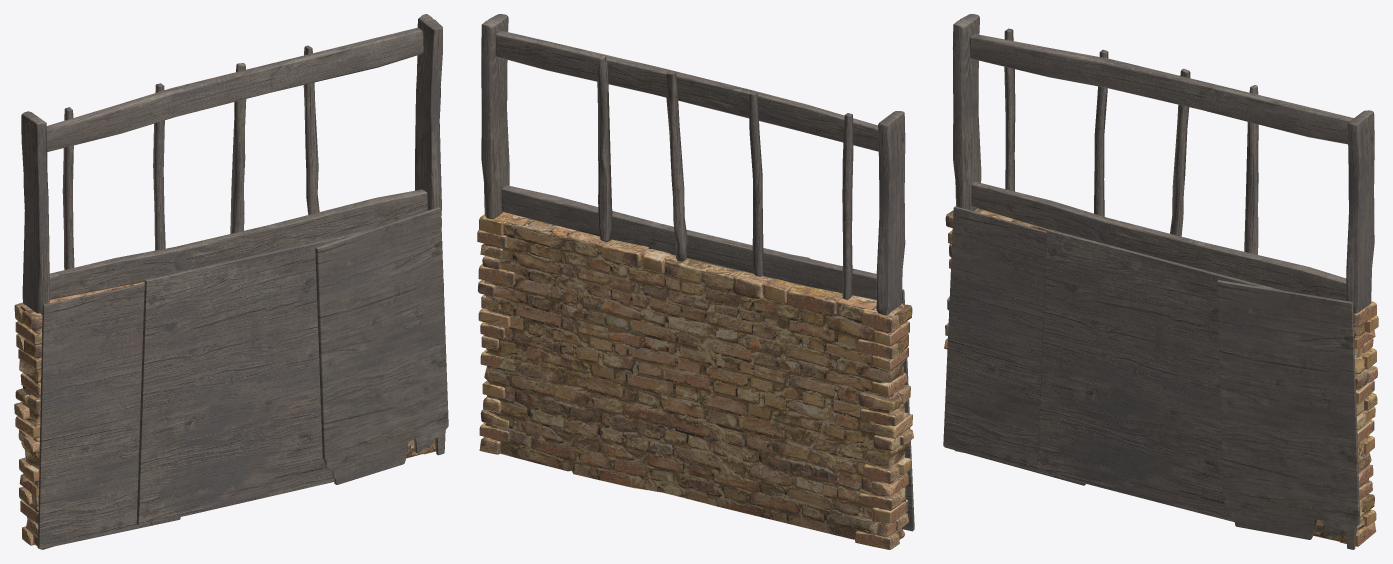
Rendered from FanceWall1.fbx.
3 renders of one model, left to right at view 1: azimuth 30°, elevation 25°; view 2: azimuth 150°, elevation 25°; view 3: azimuth 330°, elevation 25°, orthographic.
Visible parts, largest first — view 1: Group_0_Sub_1__sm20_006_FenceWallLarge_A_ALB_Mat__Env_Layer, Group_0_Sub_0__sm20_006_FenceWallLarge_B_ALB_Mat__Env_Layer; view 2: Group_0_Sub_0__sm20_006_FenceWallLarge_B_ALB_Mat__Env_Layer, Group_0_Sub_1__sm20_006_FenceWallLarge_A_ALB_Mat__Env_Layer; view 3: Group_0_Sub_1__sm20_006_FenceWallLarge_A_ALB_Mat__Env_Layer, Group_0_Sub_0__sm20_006_FenceWallLarge_B_ALB_Mat__Env_Layer.
Boxes of the visible parts, left/top/right/bottom form: Group_0_Sub_1__sm20_006_FenceWallLarge_A_ALB_Mat__Env_Layer: left=21, top=14, right=448, bottom=549; Group_0_Sub_0__sm20_006_FenceWallLarge_B_ALB_Mat__Env_Layer: left=14, top=217, right=443, bottom=549; Group_0_Sub_0__sm20_006_FenceWallLarge_B_ALB_Mat__Env_Layer: left=477, top=212, right=913, bottom=549; Group_0_Sub_1__sm20_006_FenceWallLarge_A_ALB_Mat__Env_Layer: left=481, top=14, right=914, bottom=531; Group_0_Sub_1__sm20_006_FenceWallLarge_A_ALB_Mat__Env_Layer: left=943, top=14, right=1374, bottom=549; Group_0_Sub_0__sm20_006_FenceWallLarge_B_ALB_Mat__Env_Layer: left=944, top=208, right=1378, bottom=546.
Bounding box in the file's own units: 312 × 307 × 36.55.
